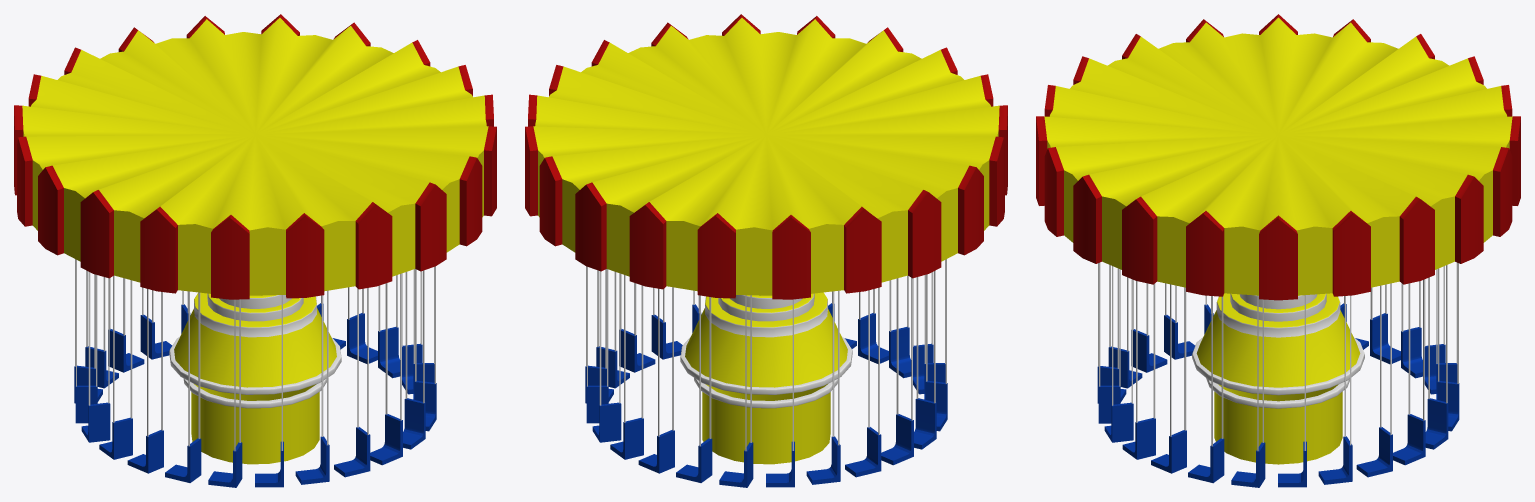
File: Carousel.fbx
The picture shows the model from 3 angles, left to right: view 1: azimuth 30°, elevation 25°; view 2: azimuth 150°, elevation 25°; view 3: azimuth 270°, elevation 25°; orthographic projection.
Parts seen in each view (by area): view 1: Carousel; view 2: Carousel; view 3: Carousel.
Part boxes in pixels (x1,y1,x2,y2): Carousel: (14,14,496,487); Carousel: (525,14,1007,487); Carousel: (1036,14,1520,487).
Bounding box in the file's own units: 6.9 × 5.04 × 6.9.
